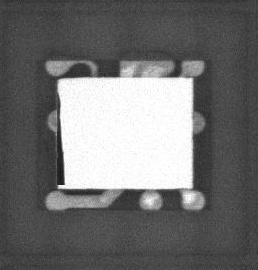DIE_BROKEN: (54, 93, 67, 186)
